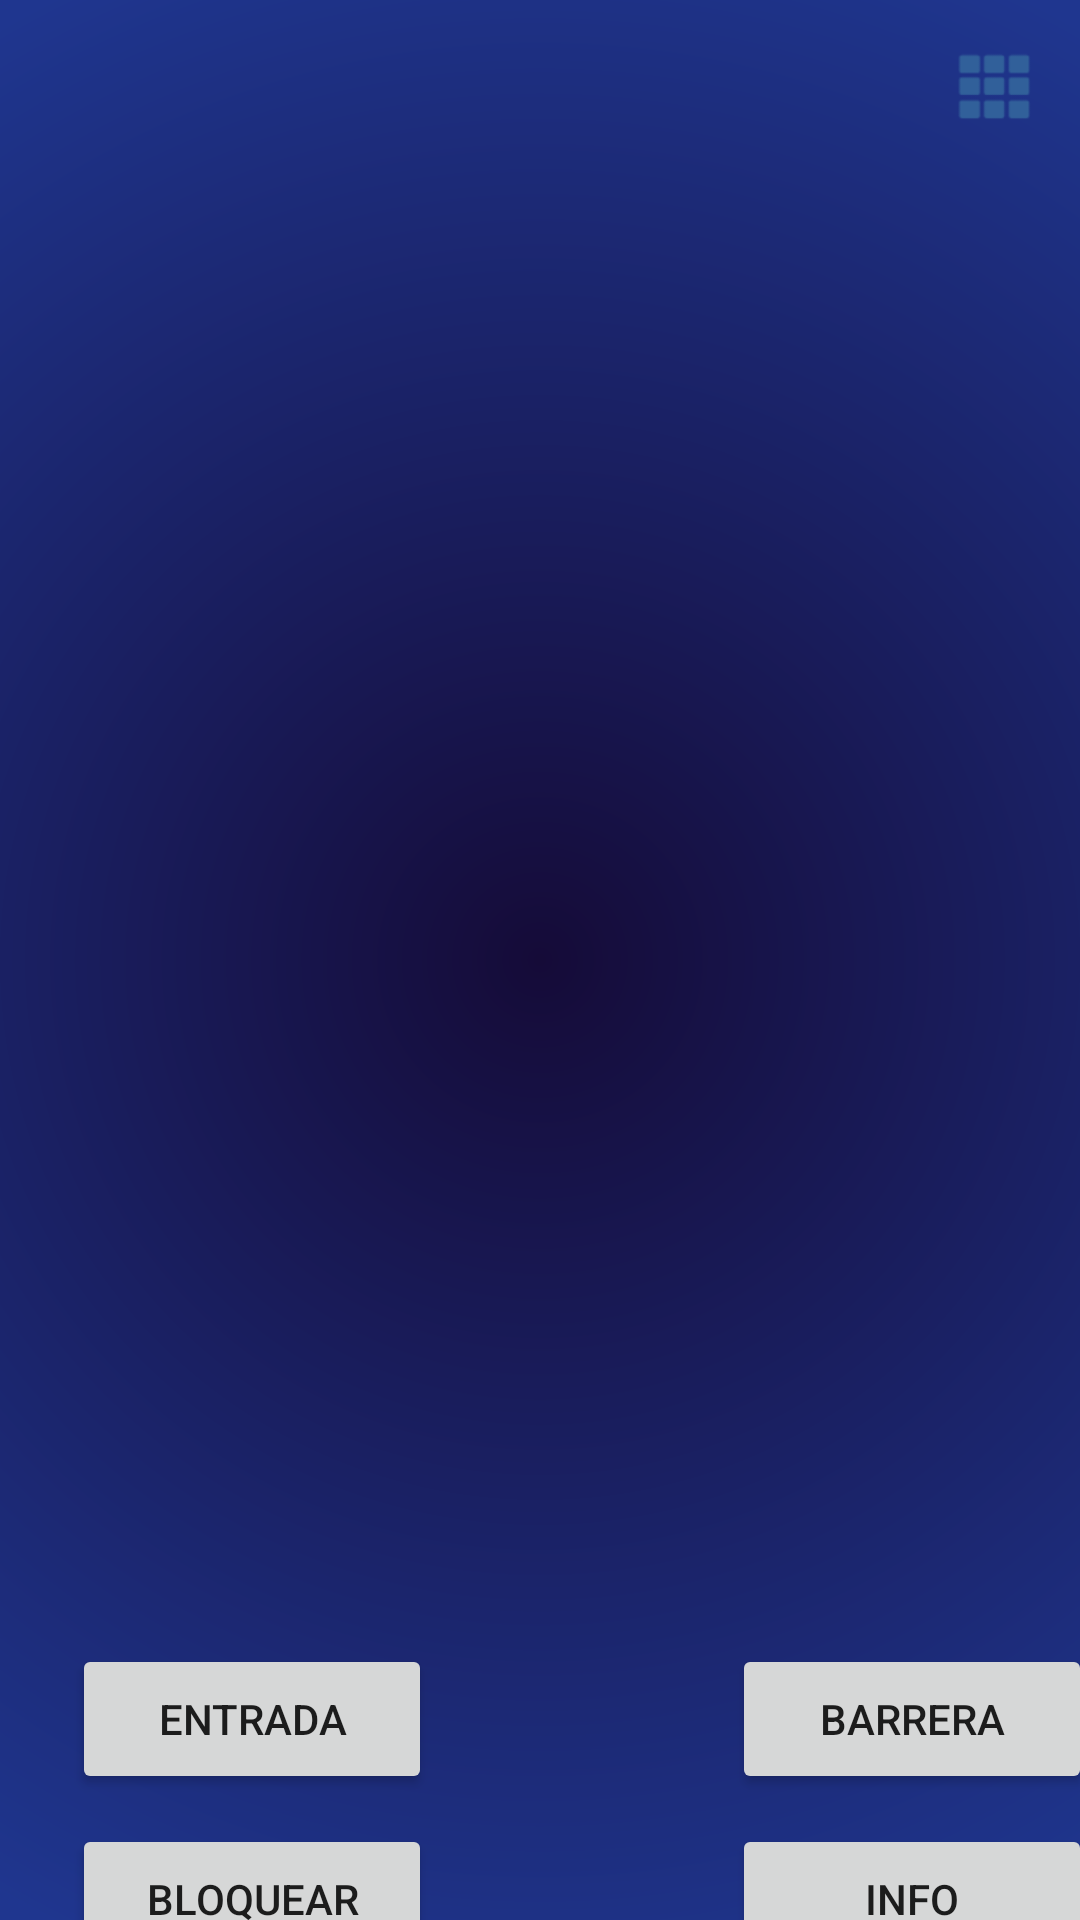

Where to tap for icons on this 1080 x 1920 app screen, as [x,y]:
dialer: [994,86]
